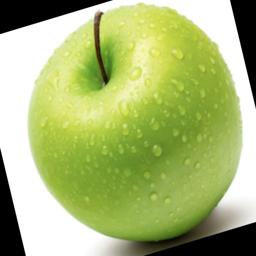Apple Fresh: (0, 0, 256, 249)
